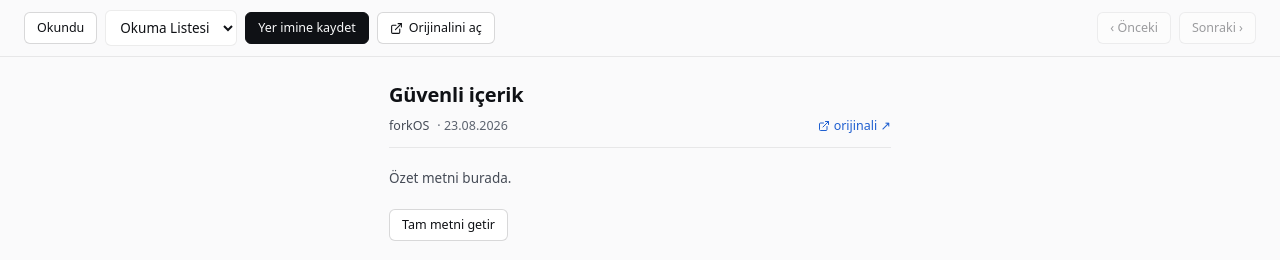
Scenario: RSS tam metin › buton tıklanınca fetch çağrılır ve içerik tam metin modunda render edilir
The image size is (1280, 260).
Click the button "Tam metni getir" at (448, 225), box [389,209,508,241]
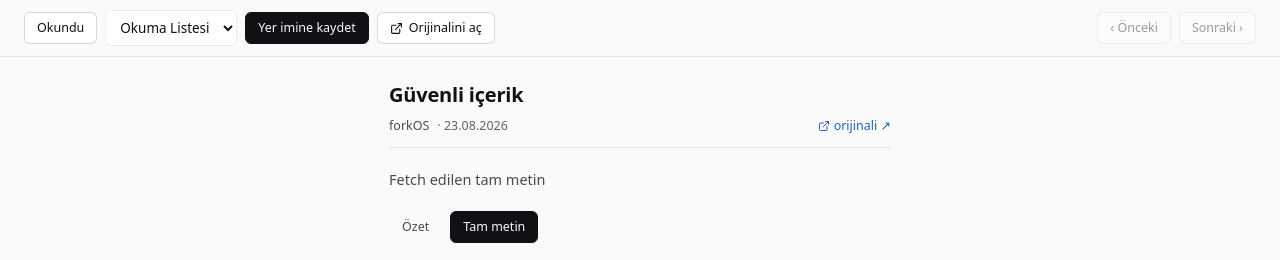
Check: the text "Fetch edilen tam metin" is shown, box [389,168,546,188]
Check: the button "Tam metin" is shown, box [450,211,538,243]
Check: the text "Özet metni burada." is gone
